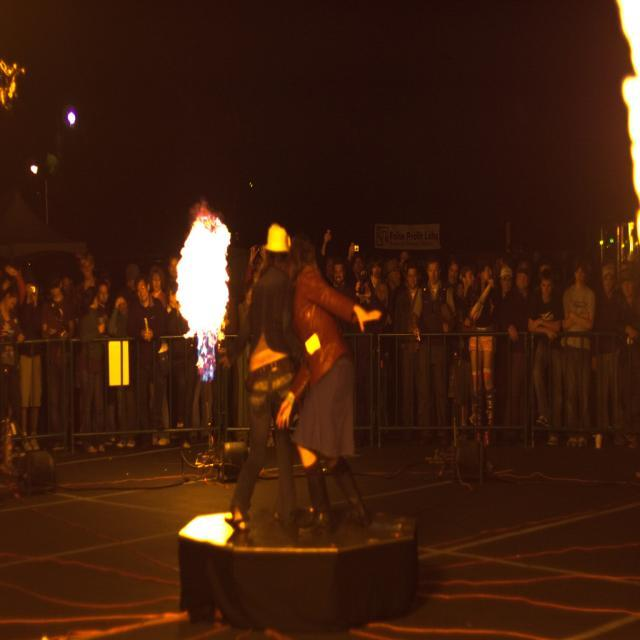Fire: (184, 236, 226, 324)
